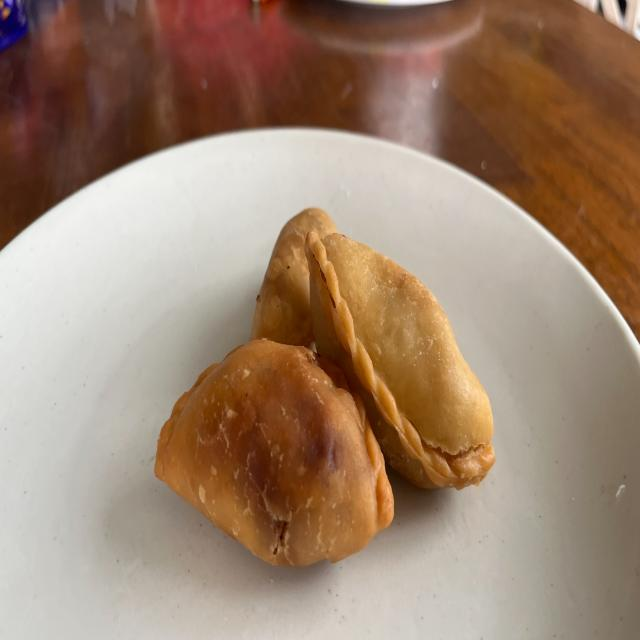karipap: (155, 338, 394, 567), (305, 229, 492, 487), (251, 209, 336, 347)
